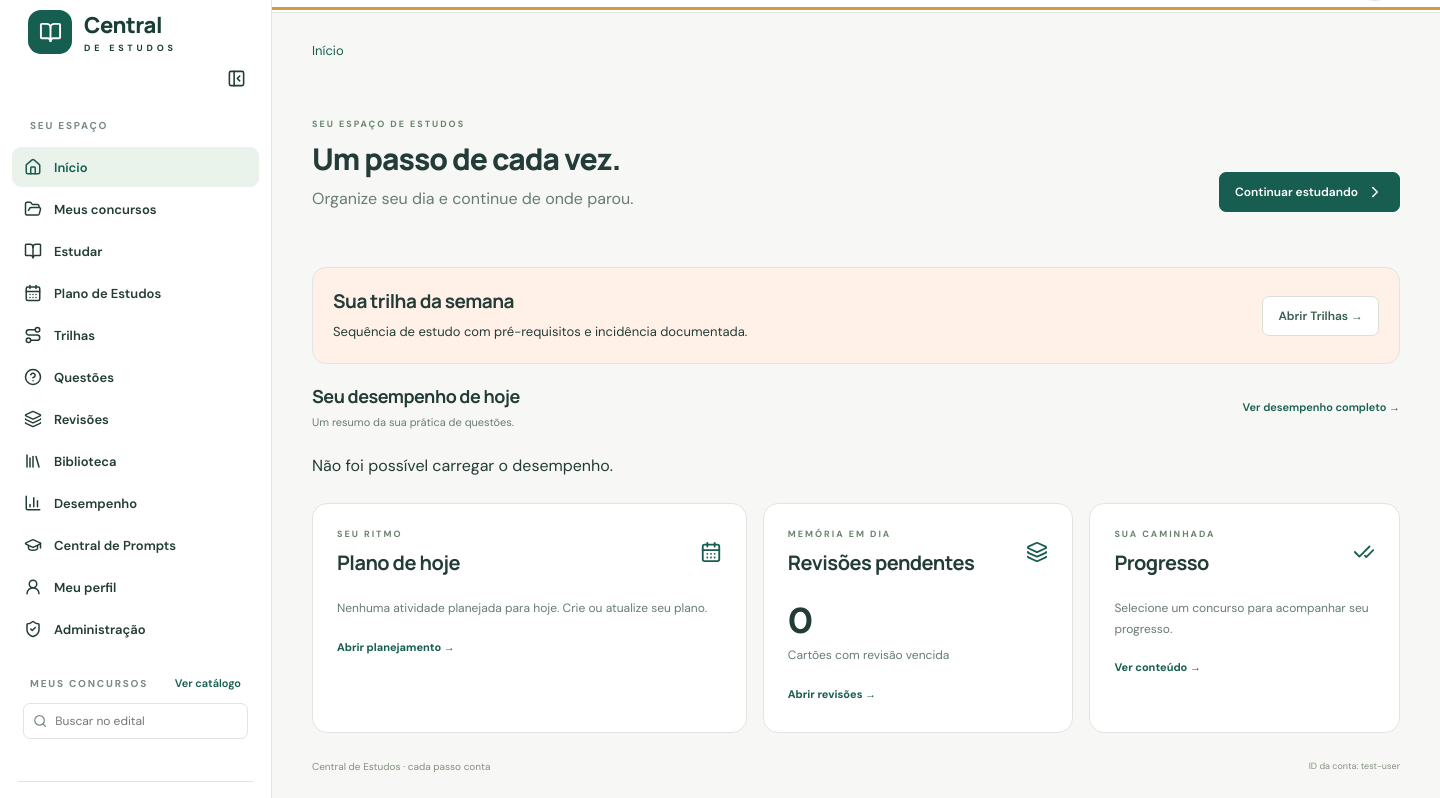
mostra Administração apenas ao admin e mantém os mesmos módulos de estudo
(page scrolled)
Click the button "Administração". click: (136, 629)
box: [12,609,259,649]
(page scrolled)
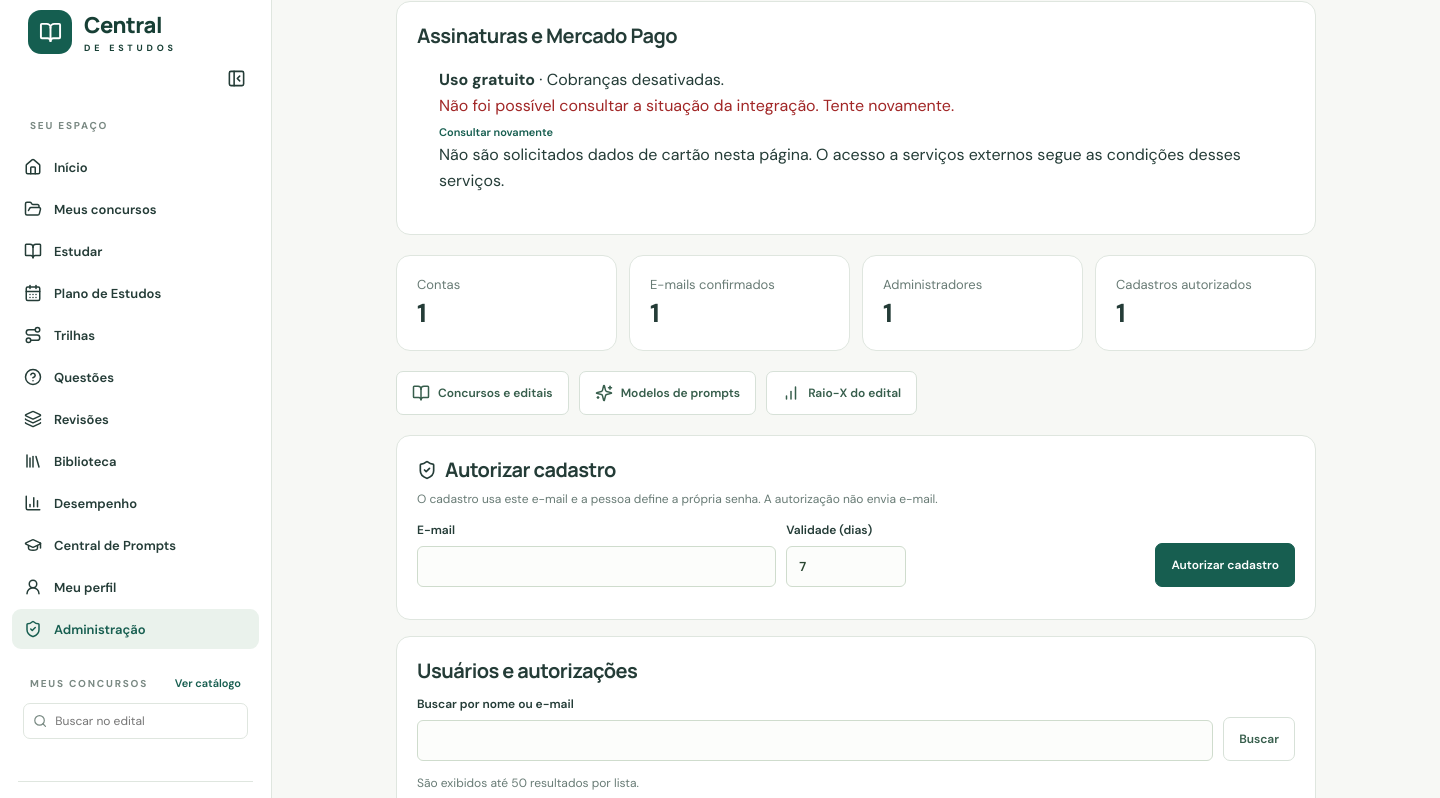
Expected: the button "Concursos e editais" is shown, [396,372,569,416]
